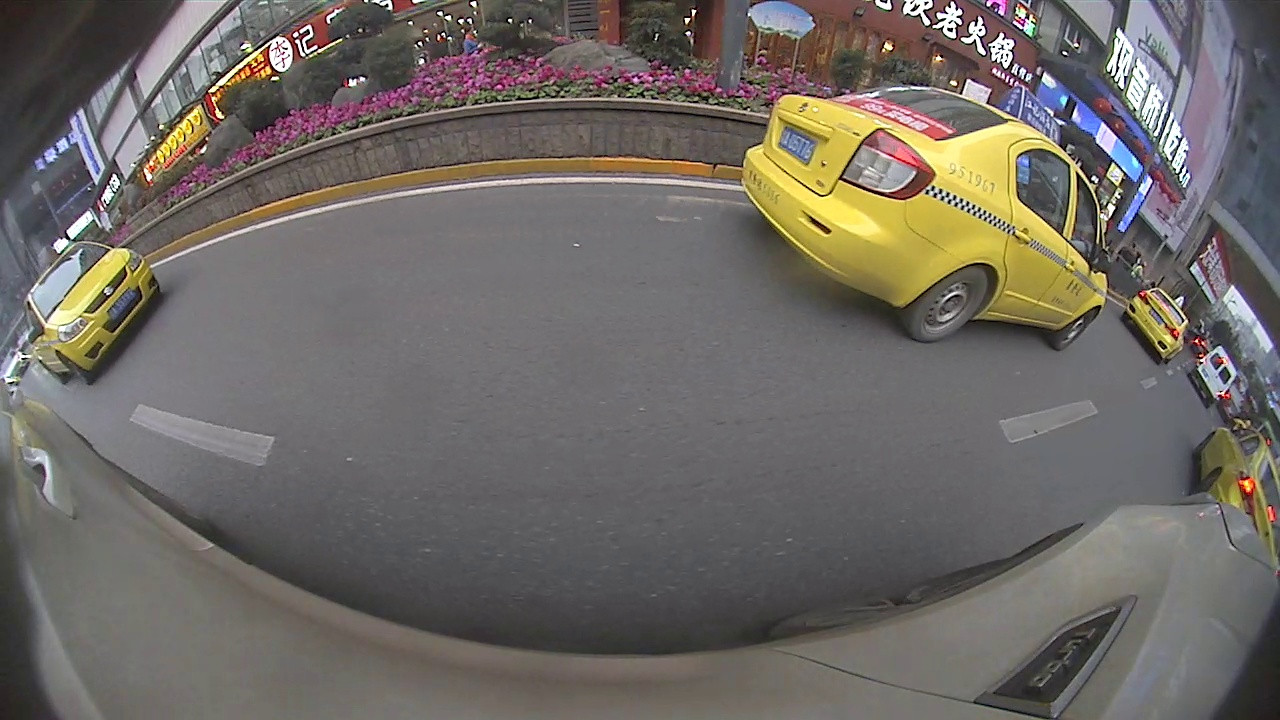car: (740, 83, 1114, 352), (19, 238, 161, 384), (1188, 425, 1279, 569), (1120, 287, 1193, 364), (1186, 345, 1239, 408)
front: (1052, 308, 1099, 352), (58, 353, 91, 387), (1192, 430, 1219, 458)
rear: (909, 264, 994, 343), (1190, 471, 1221, 497)
